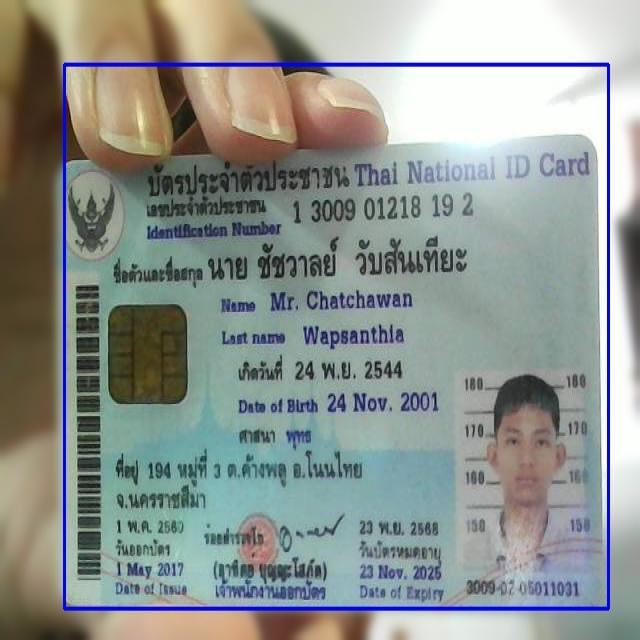Address_th: (106, 444, 373, 514)
Date_of_Birth: (324, 387, 442, 420)
Date_of_Expiry: (354, 561, 450, 588)
Date_of_Issue: (110, 556, 194, 584)
First_Name: (266, 282, 418, 314)
ID_Number: (290, 190, 477, 230)
Image: (456, 364, 590, 581)
Last_Name: (300, 318, 407, 354)
Thai_Name: (205, 235, 478, 285)
